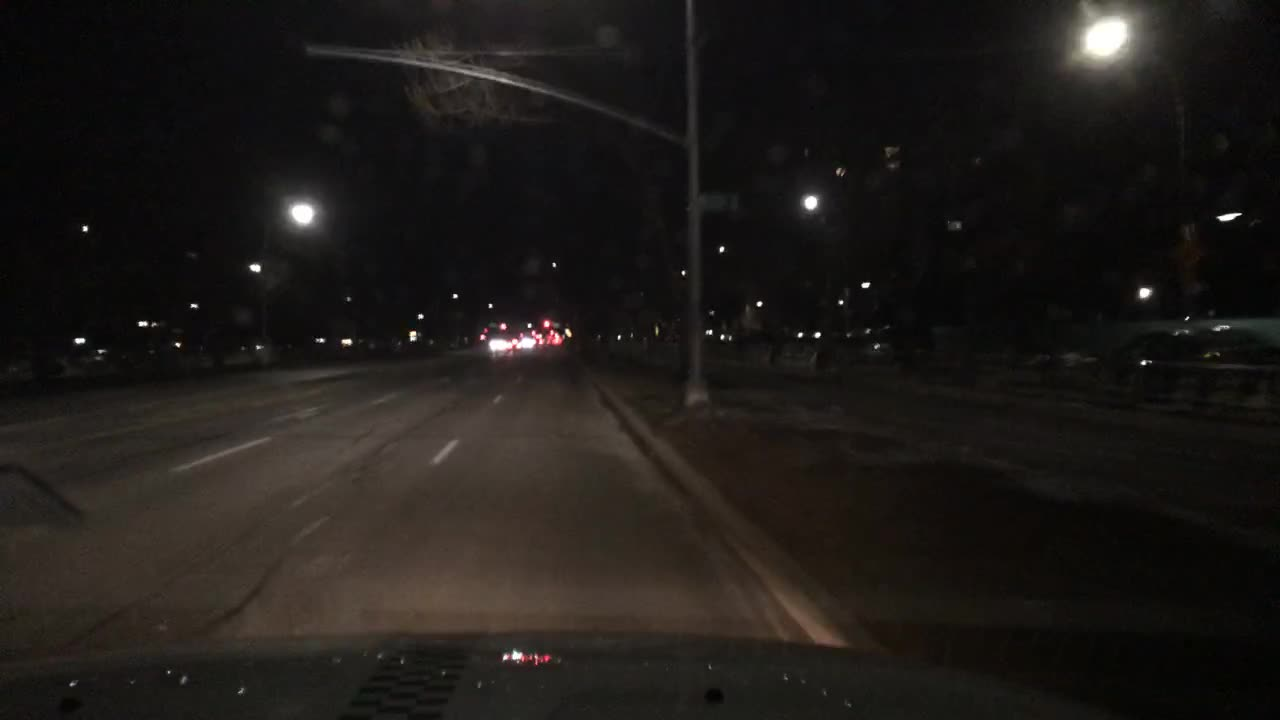car: (1107, 317, 1278, 396), (490, 334, 509, 350), (515, 339, 535, 350), (544, 335, 561, 344)
traffic light: (542, 316, 549, 327)
